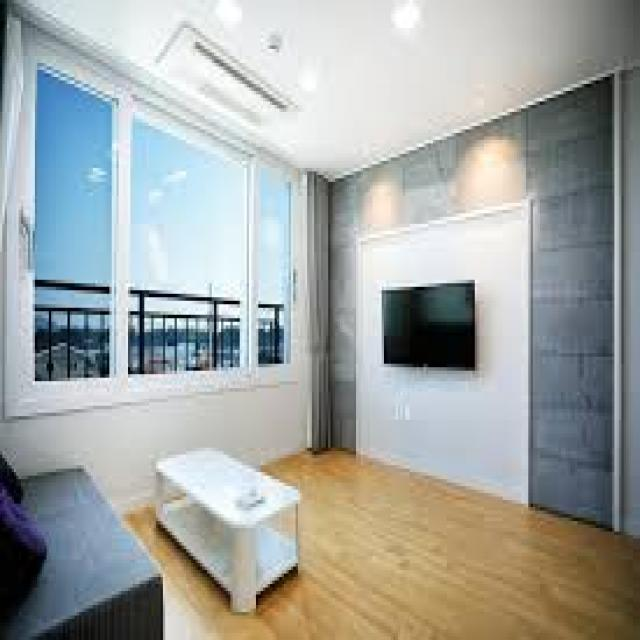Sofa: (2, 432, 164, 636)
Table: (150, 438, 311, 621)
tv: (378, 285, 478, 367)
window: (19, 18, 302, 382)
